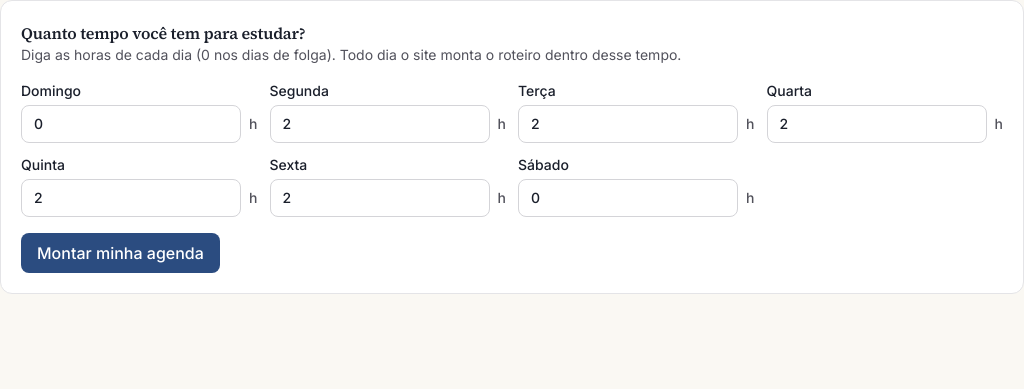
it: Agenda do dia › sem horários pede o tempo de cada dia e depois mostra o roteiro
Click the button "Montar minha agenda". click: (120, 253)
box: x1=21 y1=233 x2=220 y2=273
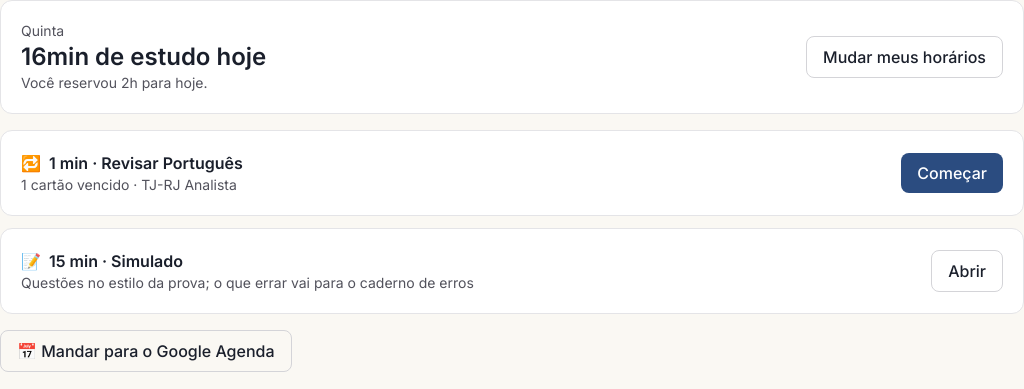
Now the button "Mudar meus horários" is shown, box x1=806 y1=36 x2=1003 y2=78
